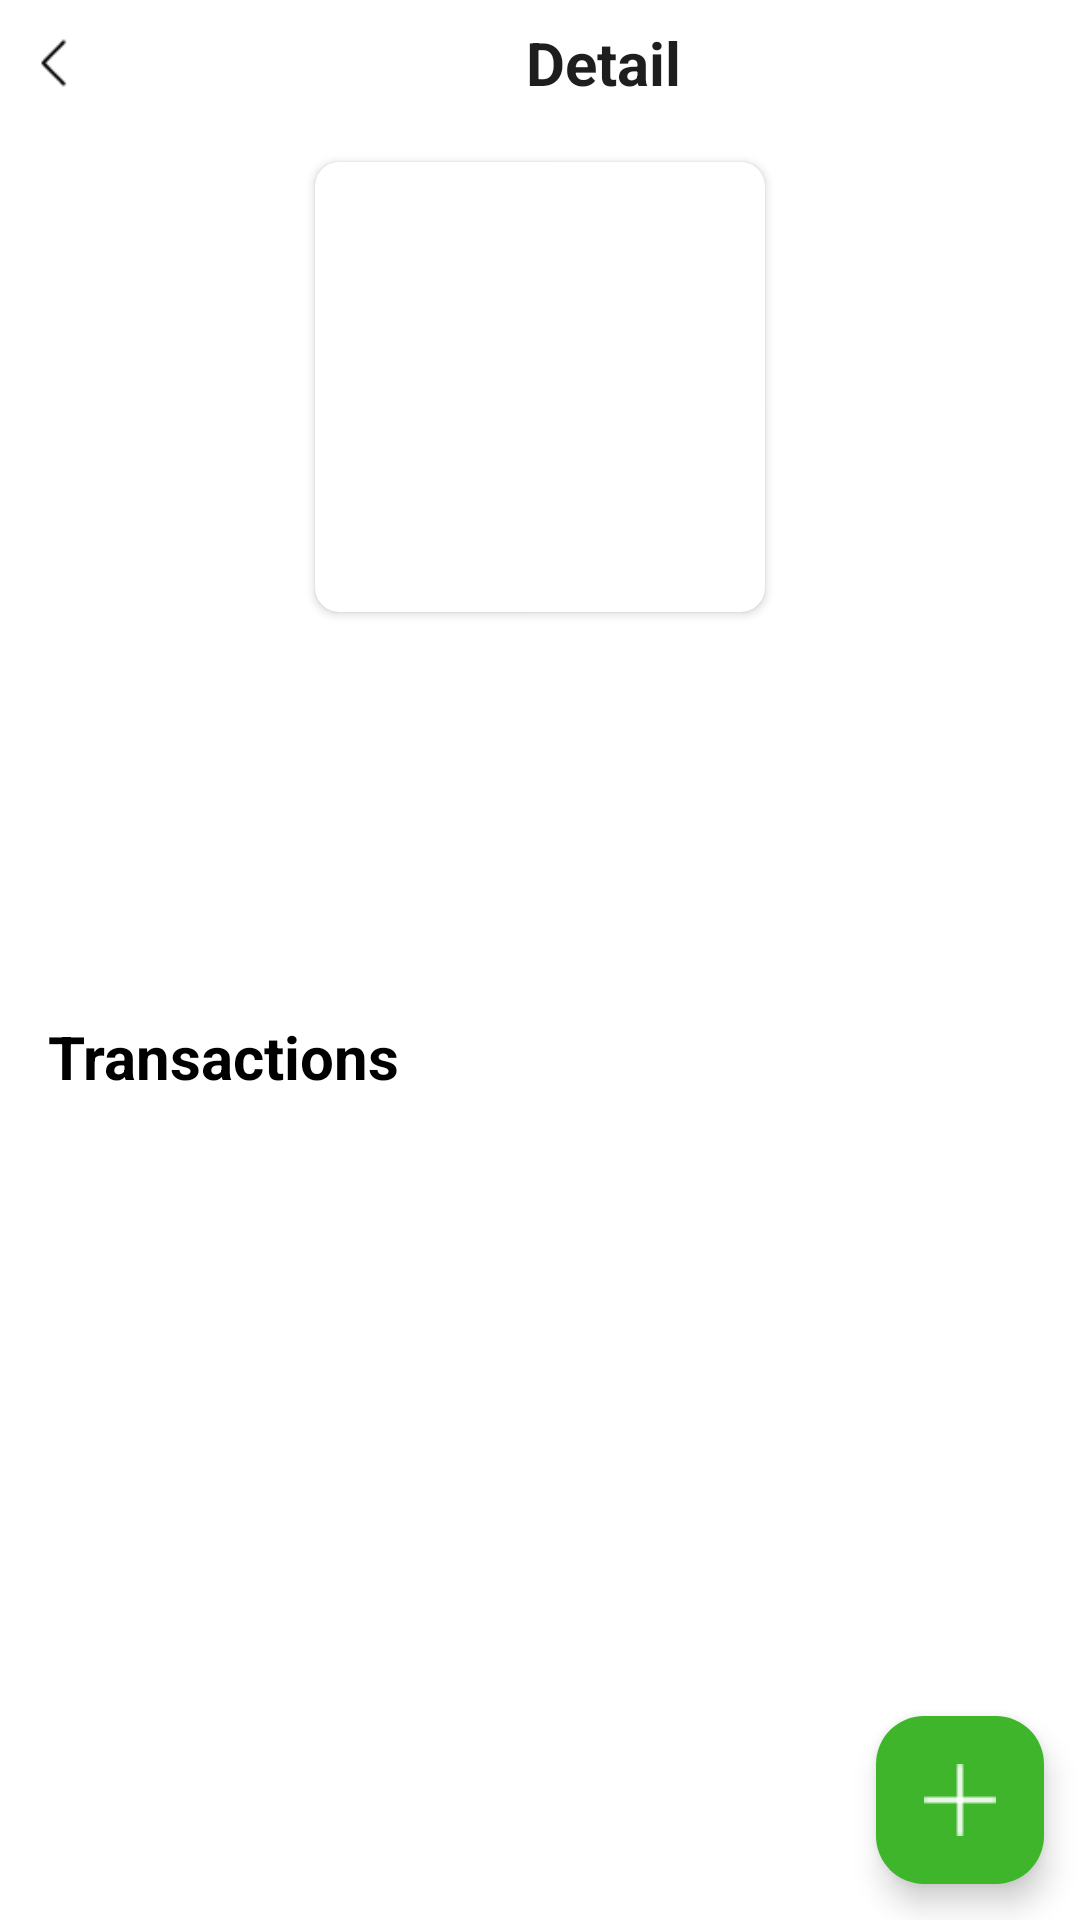

Locate icon controls on the screen. Image size 1080px×1920px, boxes as rect(x1, y1, x2, y2).
back: rect(41, 39, 66, 87)
plus: rect(876, 1716, 1044, 1884)
